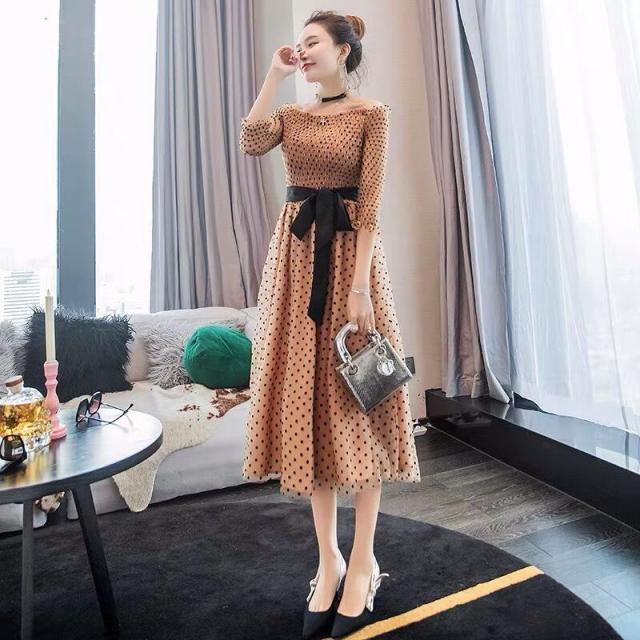clothes: (240, 103, 424, 490)
